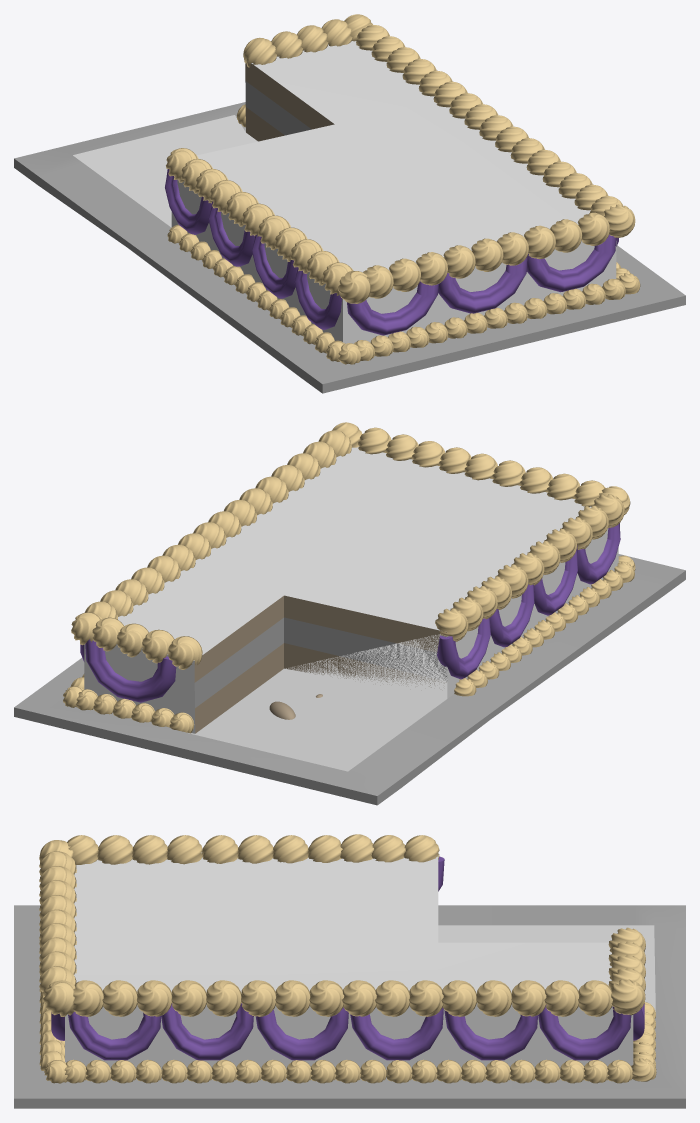
File: CakeSliced.fbx
The picture shows the model from 3 angles, top to bottom: view 1: azimuth 30°, elevation 25°; view 2: azimuth 150°, elevation 25°; view 3: azimuth 270°, elevation 25°; orthographic projection. The views are drawn at different scales.
Parts seen in each view (by area): view 1: pSphere4; view 2: pSphere4; view 3: pSphere4.
Boxes of the visible parts, x1,y1,x2,y2 form: pSphere4: [14, 14, 685, 393]; pSphere4: [14, 422, 685, 805]; pSphere4: [14, 834, 685, 1108].
Size of the model in its own units: 16.61 by 4.37 by 24.41.
